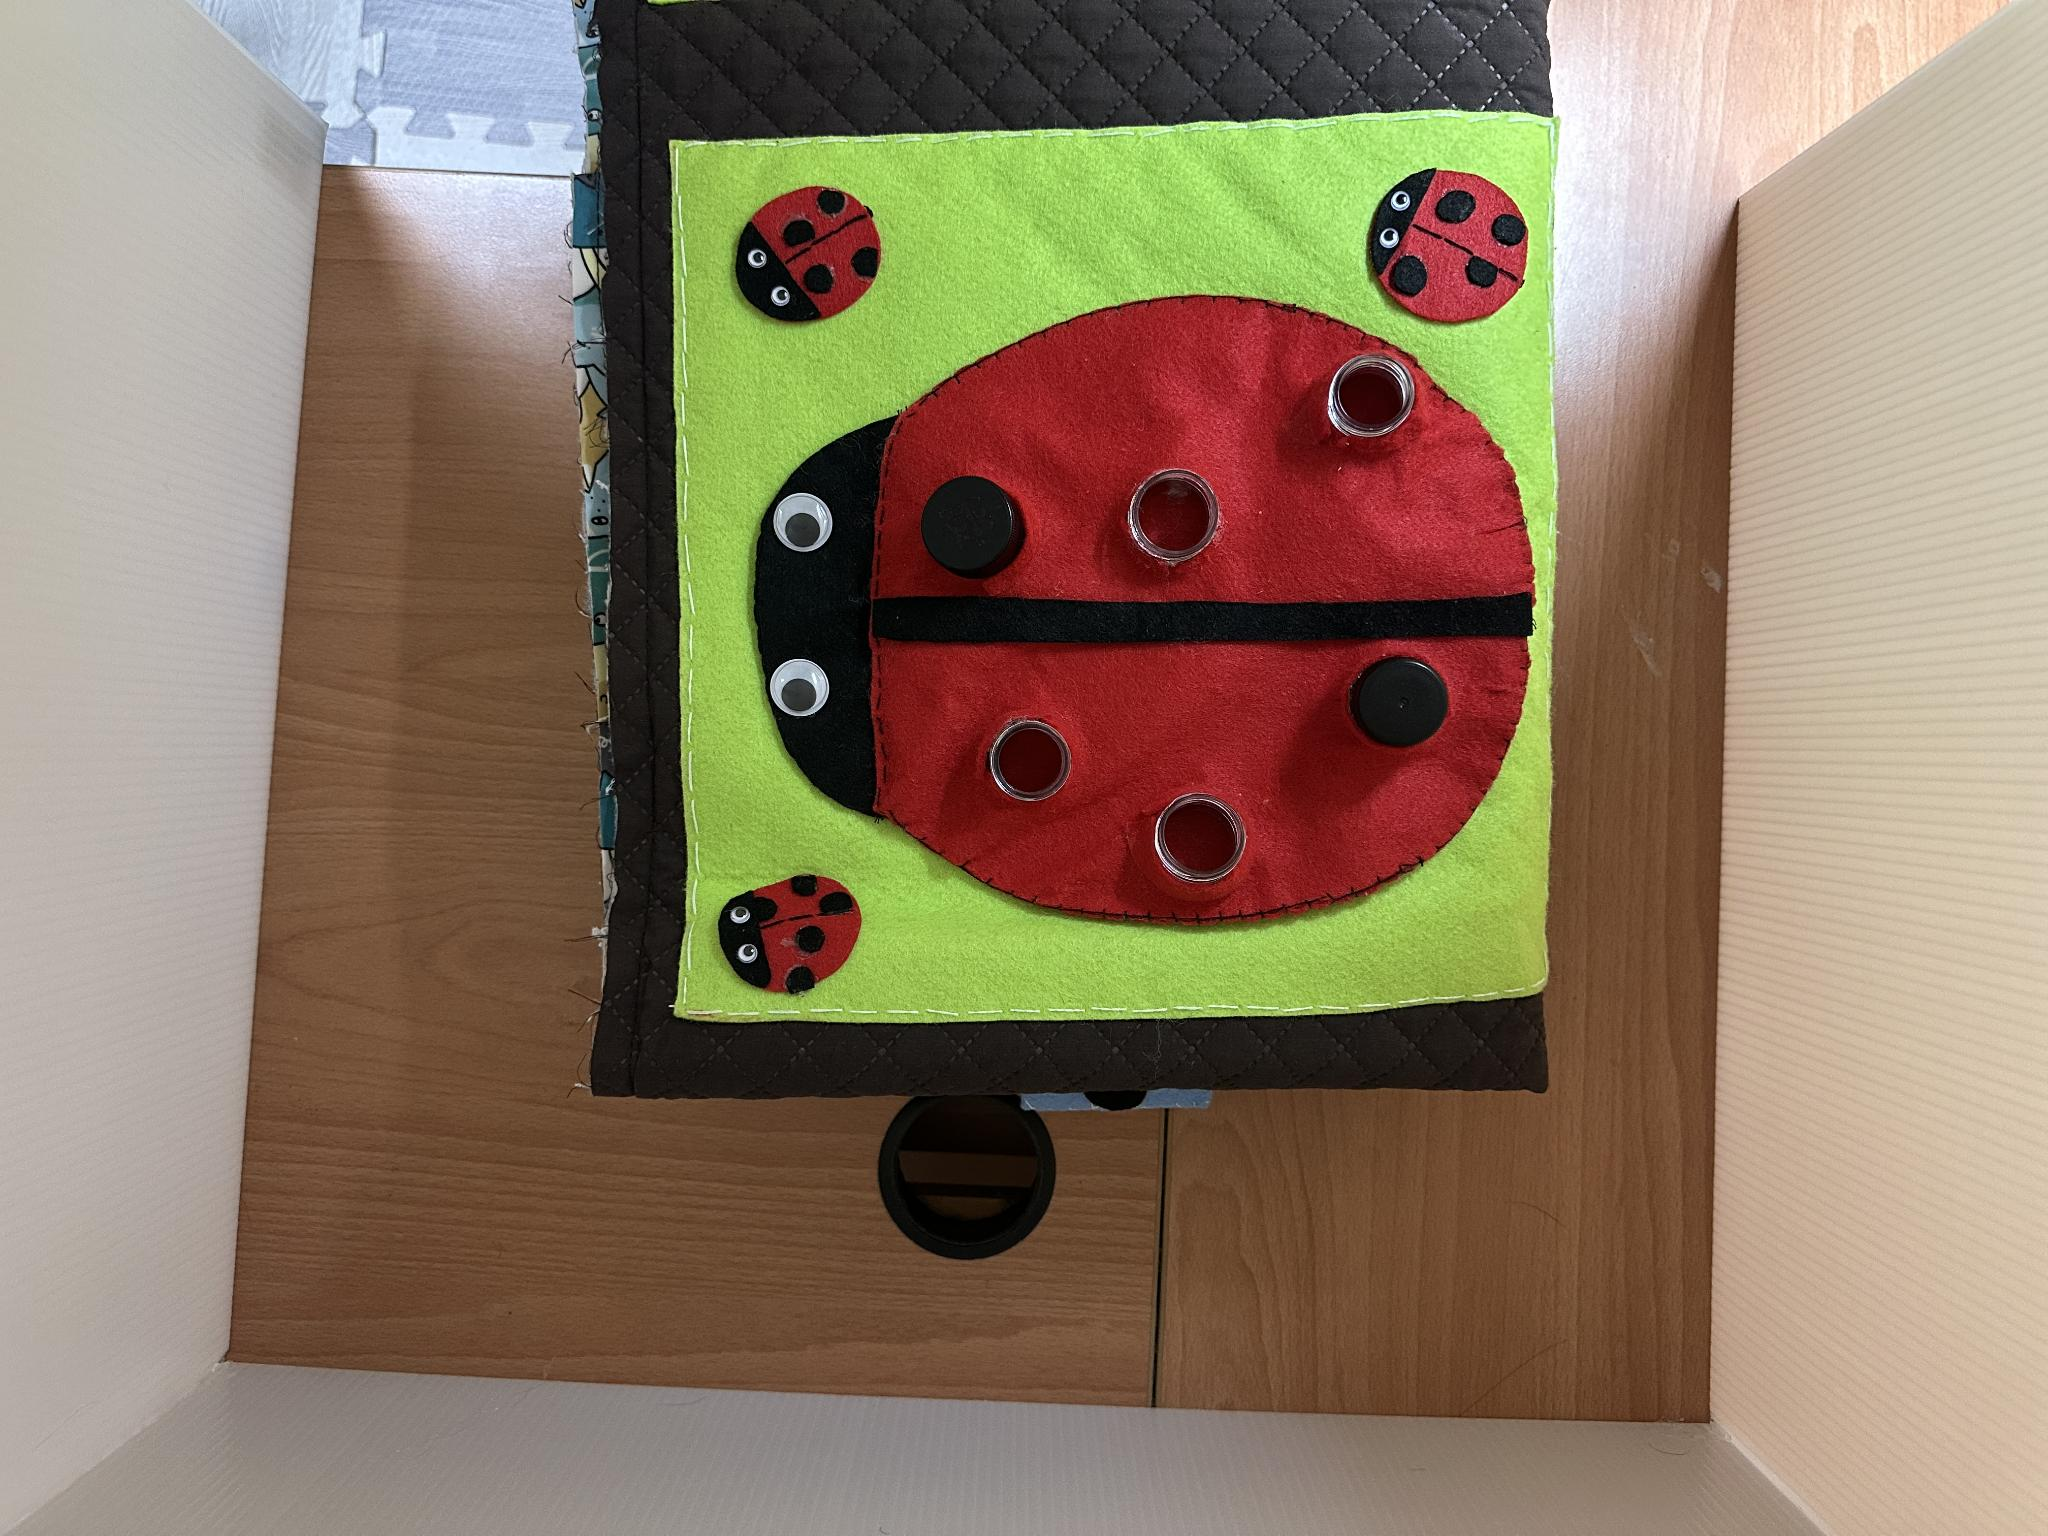cap_ok: (905, 468, 1061, 600), (1317, 645, 1476, 766)
